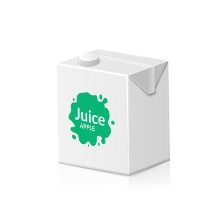carton: (45, 40, 179, 175)
